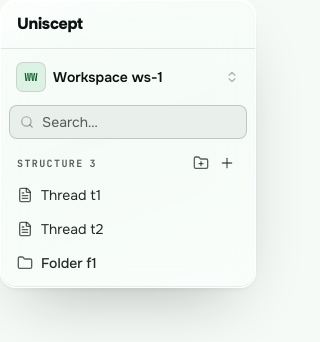
Sidebar › GIVEN a structure the member may manage with two root threads and a folder › WHEN a typed query is cleared with its button › THEN the full tree returns
In the field with placeholder "Search…": (128, 122) x1=10 y1=106 x2=246 y2=138, type "t1"
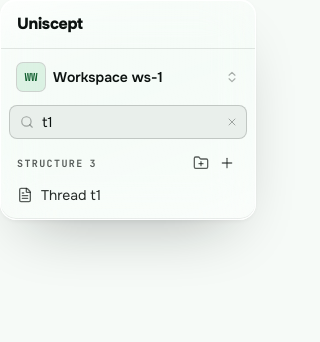
Click the button named "Clear search": (232, 122) x1=224 y1=114 x2=240 y2=130
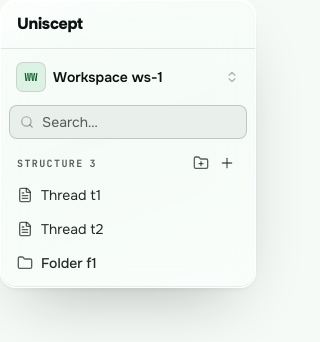
Check: the field with placeholder "Search…" is empty, box x1=10 y1=106 x2=246 y2=138
Check: the text "Thread t2" is shown, box x1=41 y1=219 x2=104 y2=239
